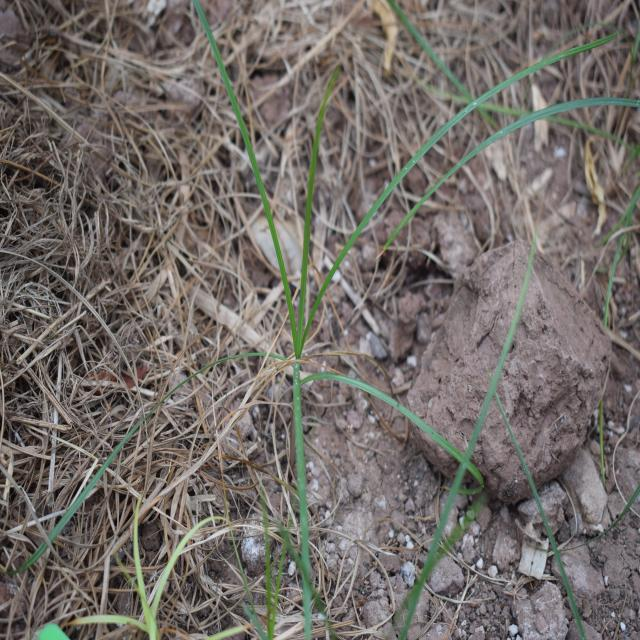sedge: (182, 42, 478, 503)
